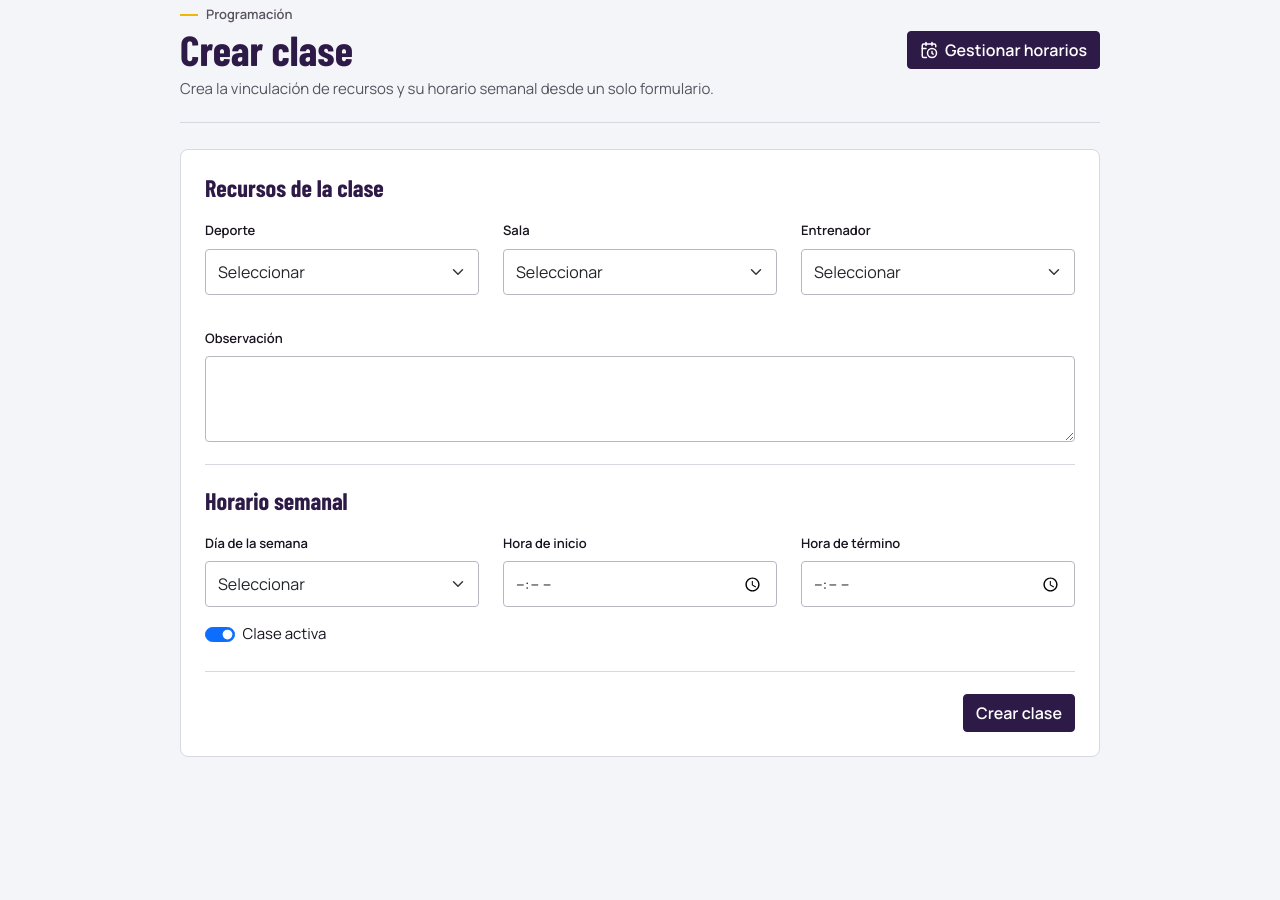
it: AdminClassCreatePage › explains when the assignment persisted but scheduling failed
Select "Yoga" in the dropdown labelled "Deporte": x=342, y=272 [205,248,479,294]
Select "Sala Yoga" in the dropdown labelled "Sala": x=640, y=272 [503,248,777,294]
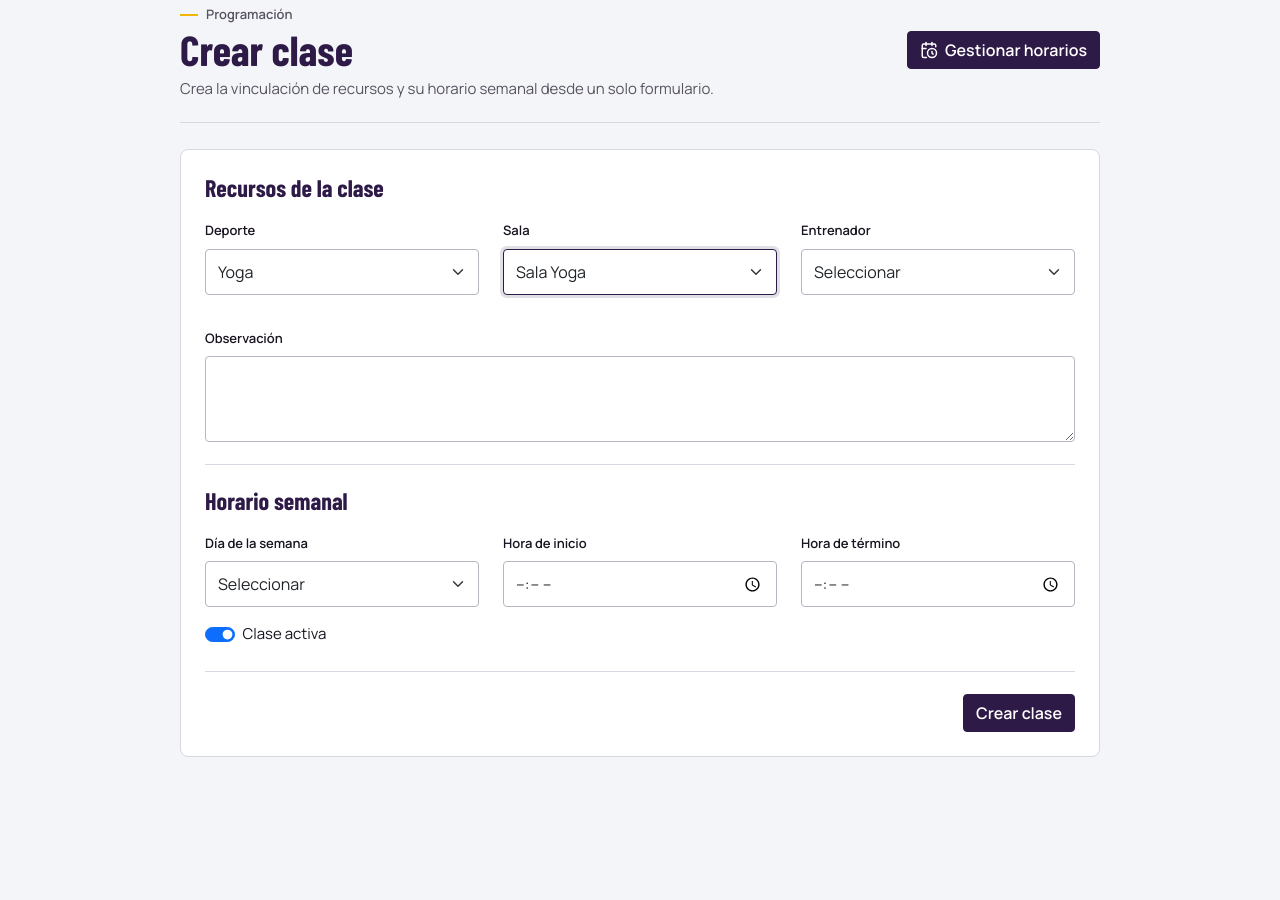
Select "Demo Coach 2" in the dropdown labelled "Entrenador": x=938, y=272 [801,248,1075,294]
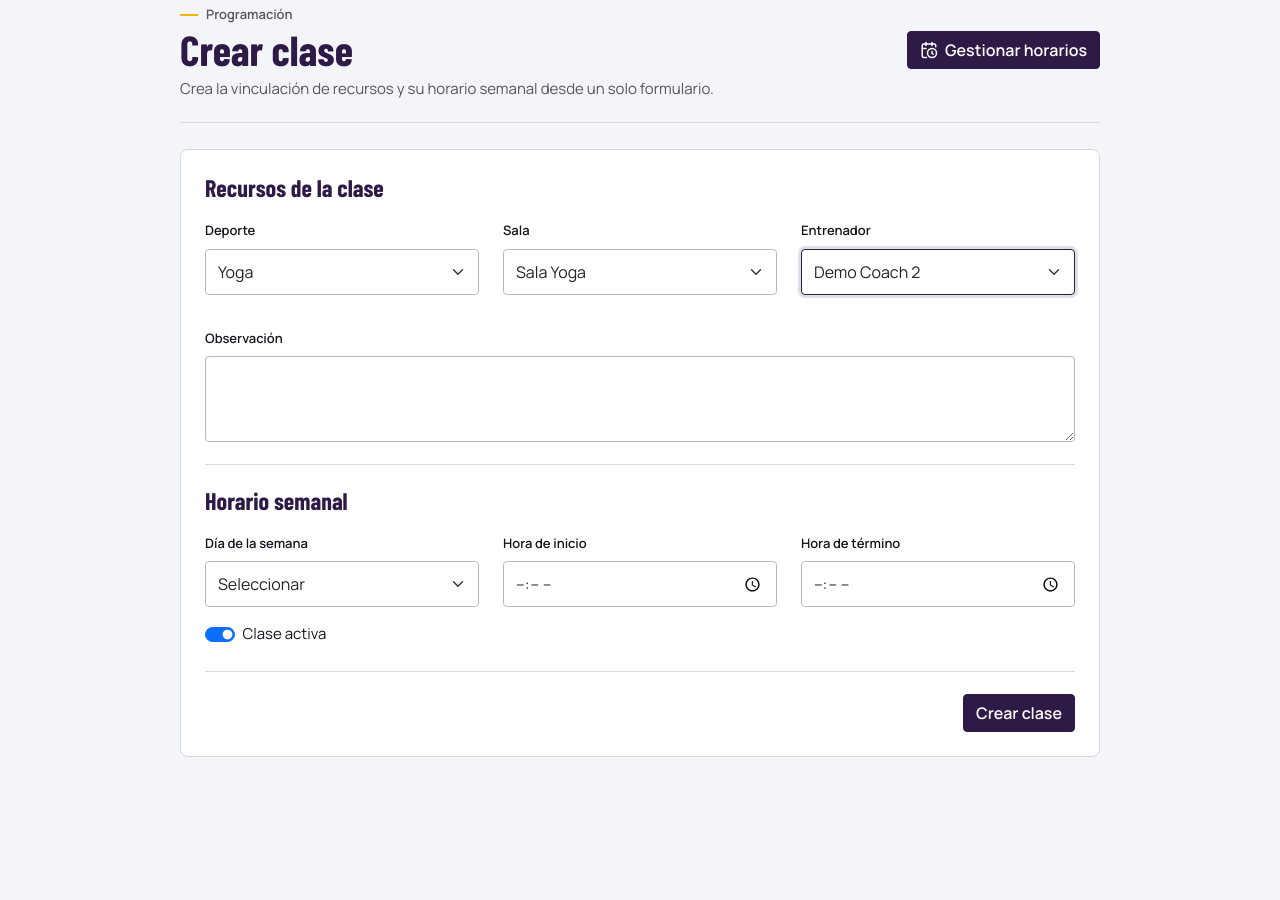
Select "Miércoles" in the dropdown labelled "Día de la semana": x=342, y=584 [205,561,479,607]
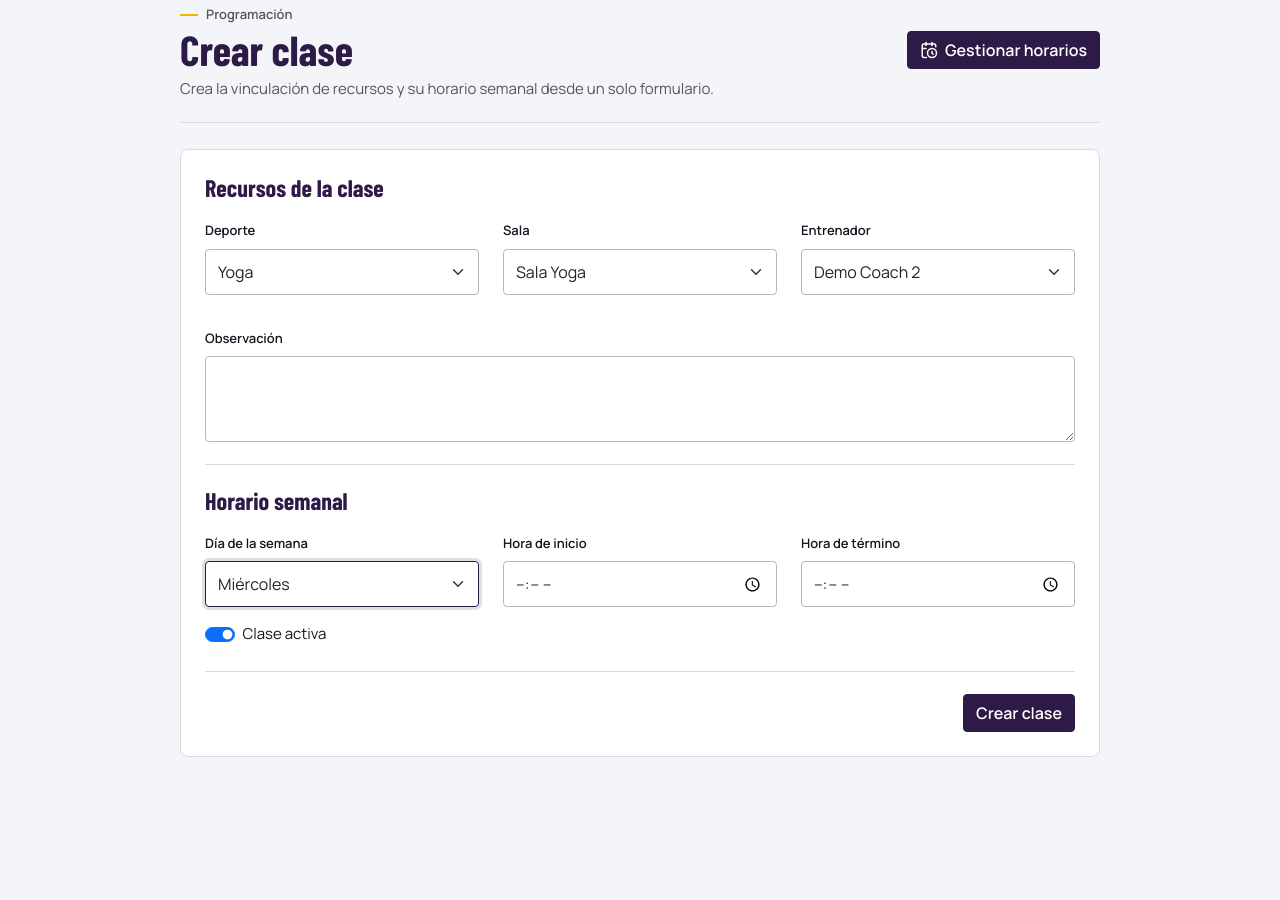
In the time field labelled "Hora de inicio": x=640, y=584 [503,561,777,607], type "18:00"
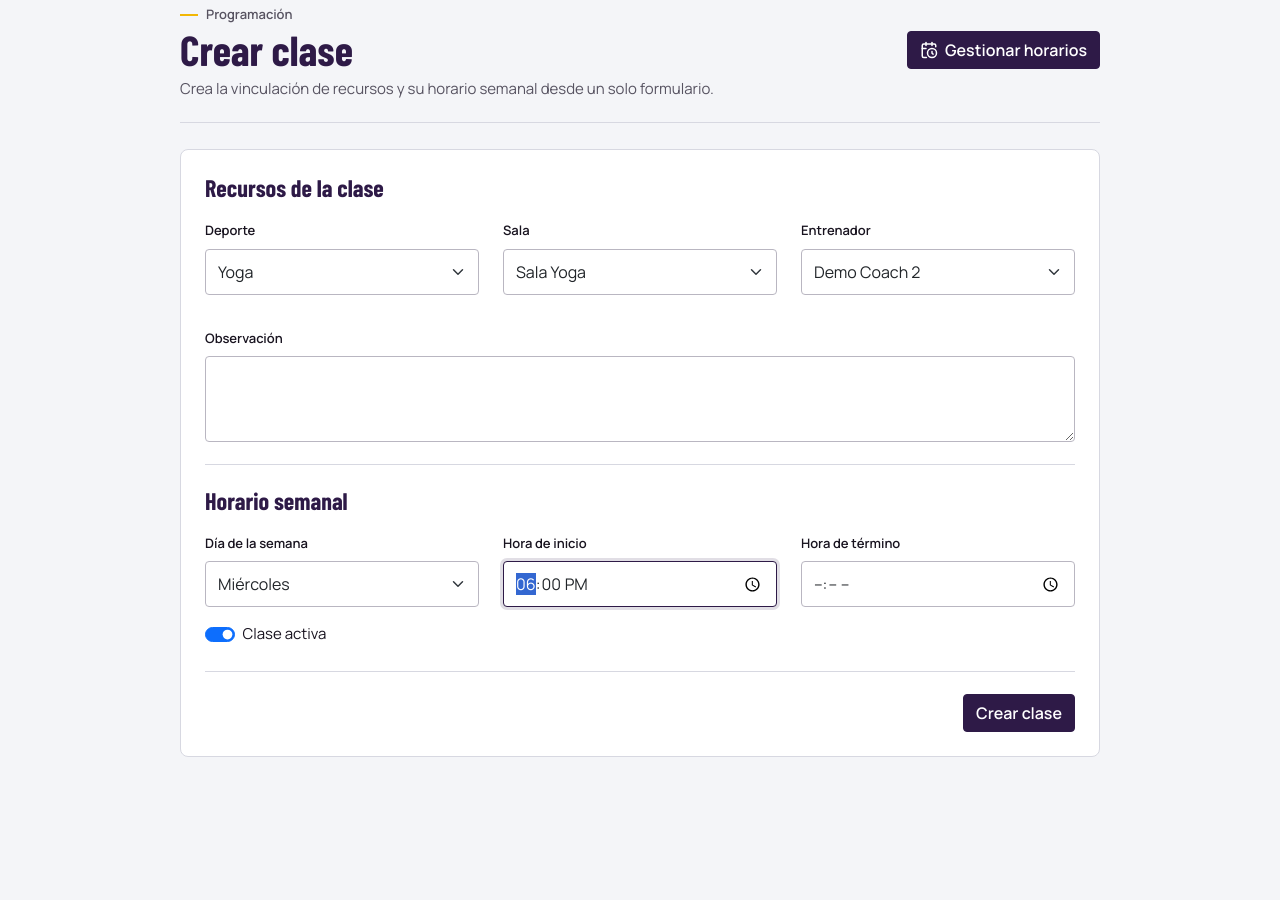
In the time field labelled "Hora de término": x=938, y=584 [801,561,1075,607], type "18:50"
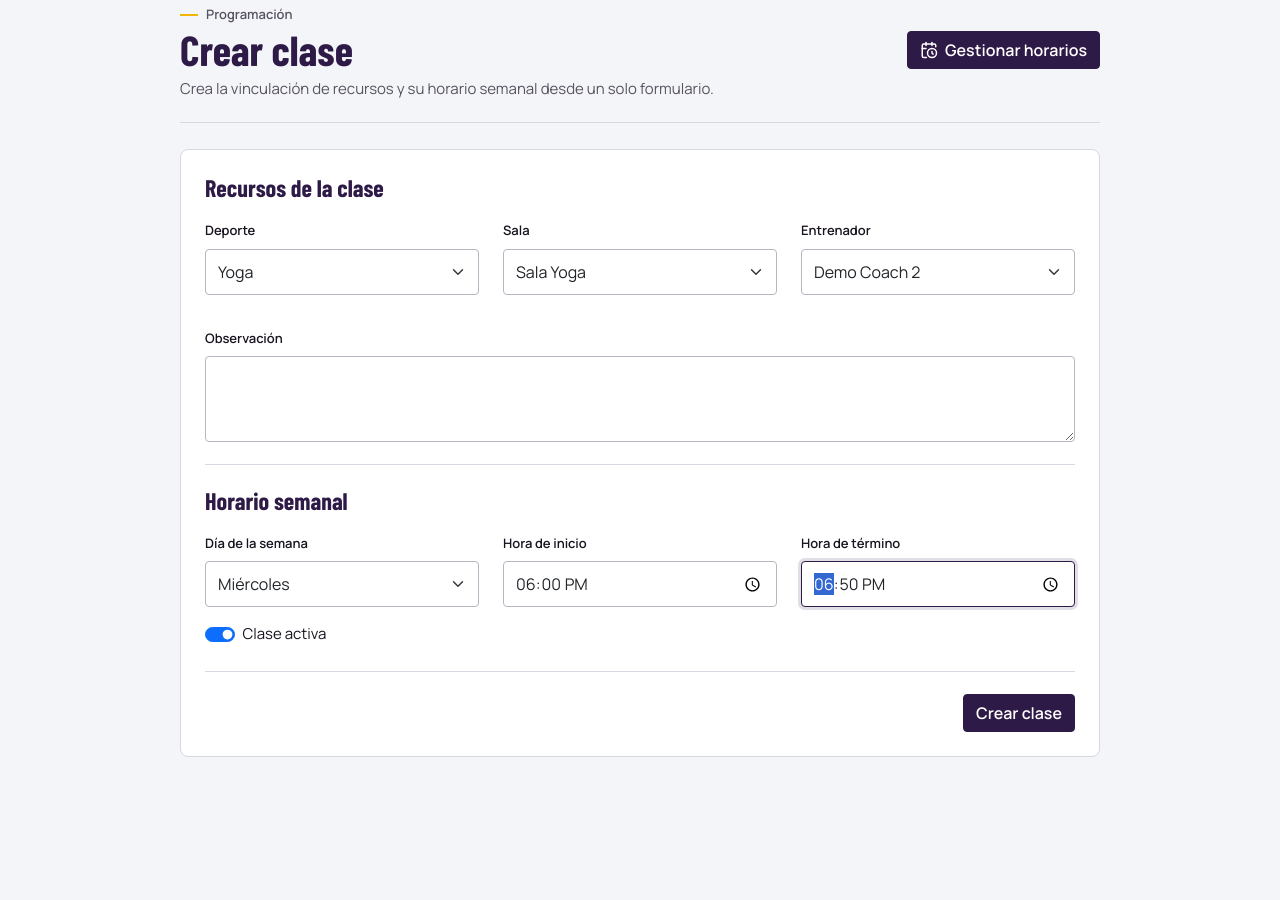
Click the button "Crear clase": x=1019, y=713 [963,694,1075,732]
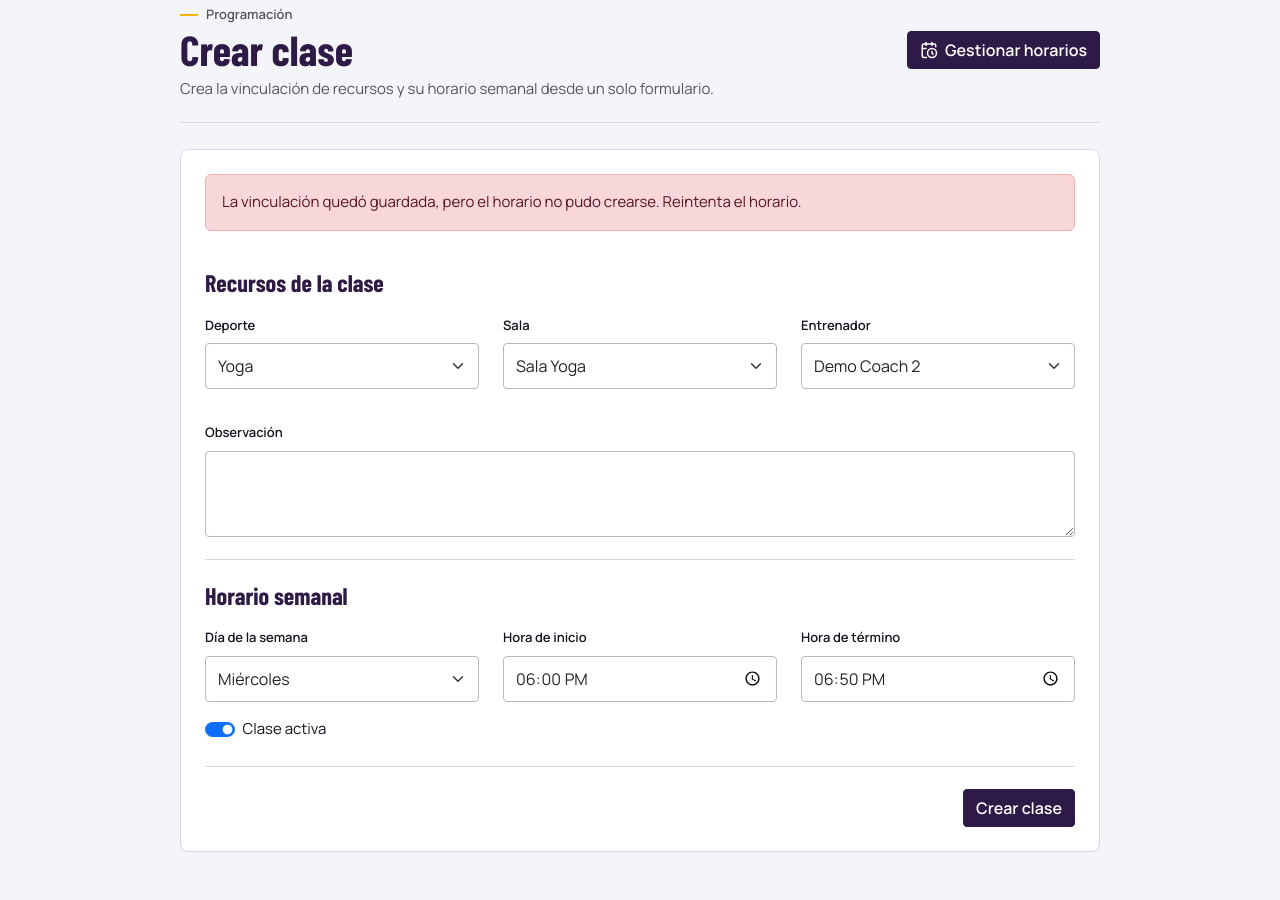
Now the message shows "vinculaci.n qued. guardada, pero el horario no pudo crearse. Reintenta el horario", box [222,191,802,212]
